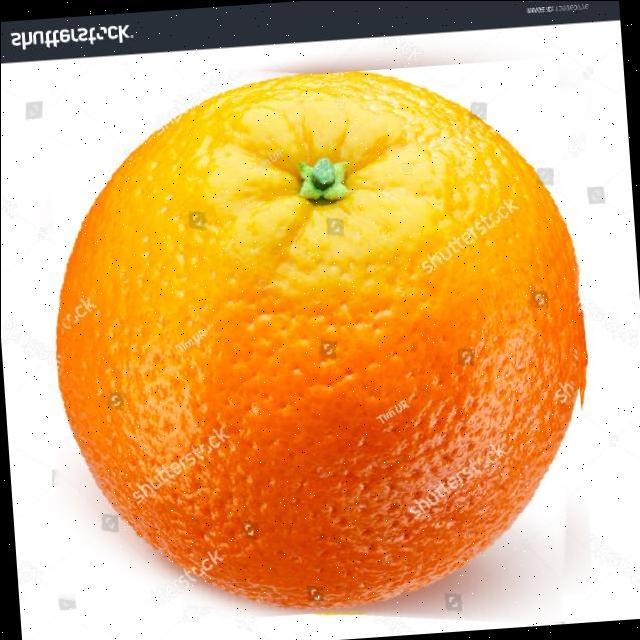Orange: (54, 70, 589, 611)
